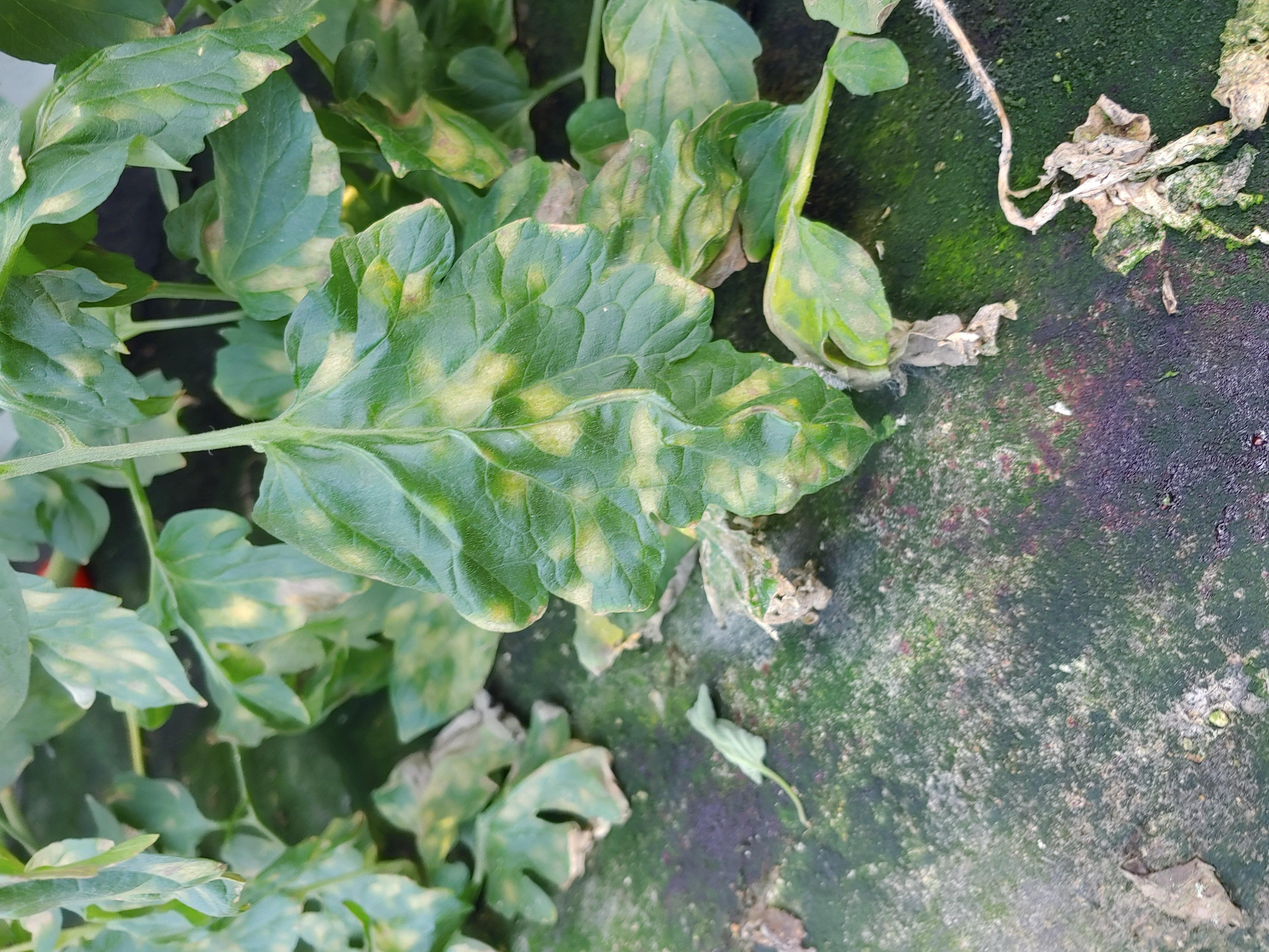Leaf Mold: (257, 198, 880, 634), (0, 0, 330, 268), (162, 67, 353, 321), (578, 98, 777, 280), (157, 508, 370, 649), (13, 569, 209, 715), (601, 0, 765, 143), (0, 274, 148, 428), (761, 217, 892, 373), (382, 582, 502, 744)
